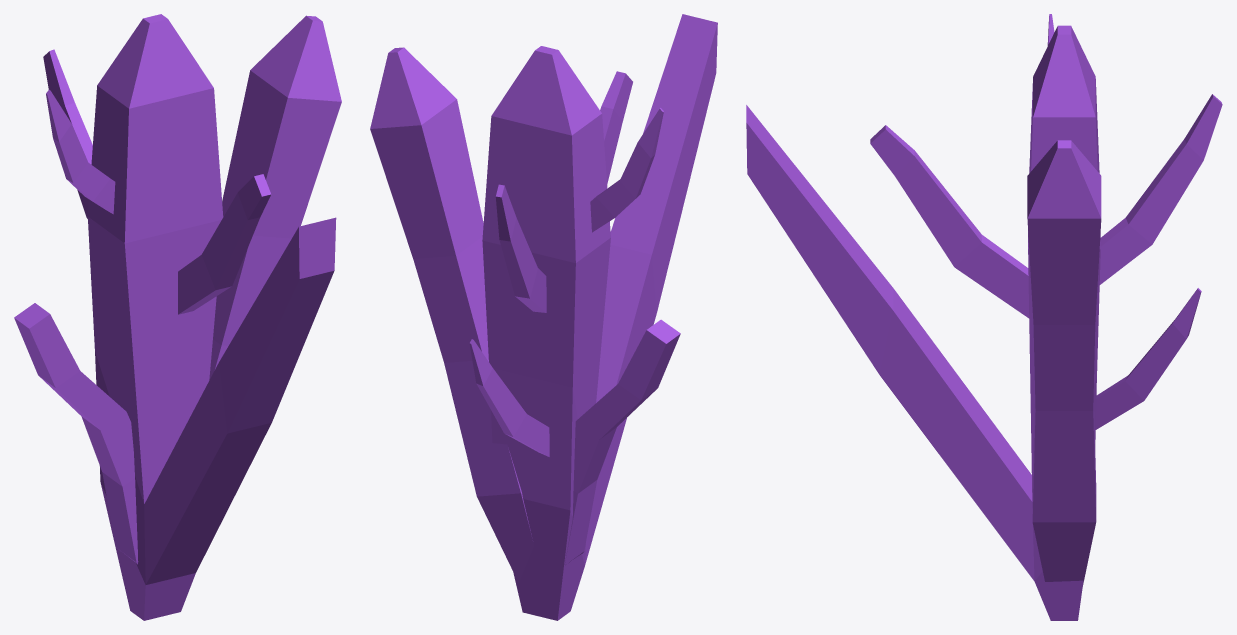
Rendered from mercan2.fbx.
The picture shows the model from 3 angles, left to right: view 1: azimuth 30°, elevation 25°; view 2: azimuth 150°, elevation 25°; view 3: azimuth 270°, elevation 25°; orthographic projection. The views are drawn at different scales.
Visible parts, largest first — view 1: mercan2; view 2: mercan2; view 3: mercan2.
Part boxes in pixels (box(x1,y1,x2,y2)): mercan2: box(14, 14, 341, 620); mercan2: box(370, 14, 717, 620); mercan2: box(746, 14, 1222, 620).
Size of the model in its own units: 42.09 by 79.06 by 58.63.
